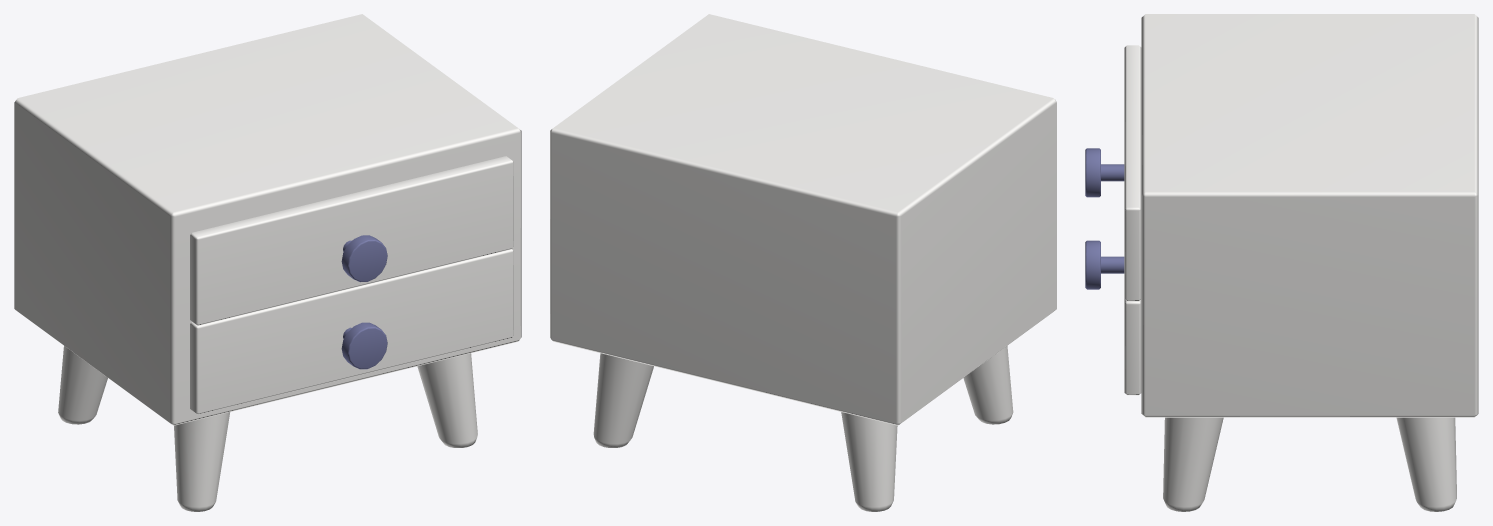
File: Cabinet_11.glb
3 views of the same model, side by side, from view 1: azimuth 30°, elevation 25°; view 2: azimuth 150°, elevation 25°; view 3: azimuth 270°, elevation 25° (orthographic). The views are drawn at different scales.
Parts seen in each view (by area): view 1: Cabinet_11; view 2: Cabinet_11; view 3: Cabinet_11.
Boxes of the visible parts, x1=… form: Cabinet_11: x1=14, y1=14, x2=521, y2=511; Cabinet_11: x1=550, y1=14, x2=1056, y2=511; Cabinet_11: x1=1085, y1=14, x2=1478, y2=511.
Size of the model in its own units: 0.8742 by 0.7574 by 0.8021.
Materials: 1 (1 with a texture image).
